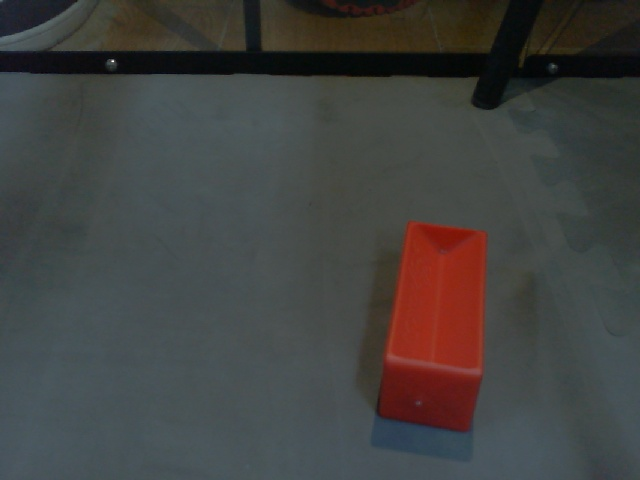RedSample: (373, 219, 489, 437)
